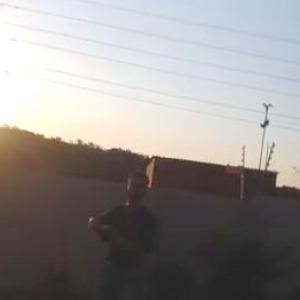follow: (80, 156, 165, 299)
